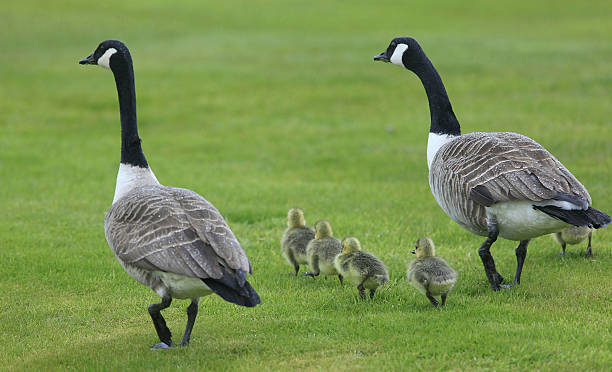goose: (369, 35, 611, 293), (75, 37, 266, 357)
